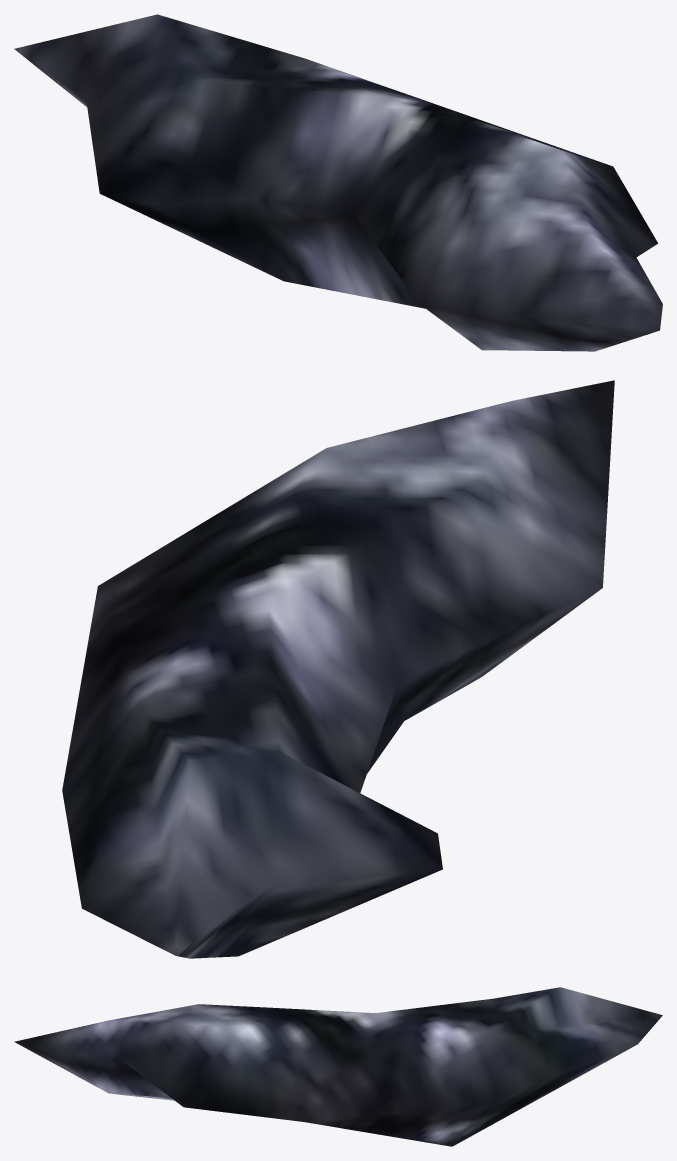
File: nar_condra_7_cone_5.glb
3 renders of one model, top to bottom at view 1: azimuth 30°, elevation 25°; view 2: azimuth 150°, elevation 25°; view 3: azimuth 270°, elevation 25°, orthographic. The views are drawn at different scales.
Parts seen in each view (by area): view 1: model_nar_condra_7_cone_5; view 2: model_nar_condra_7_cone_5; view 3: model_nar_condra_7_cone_5.
Boxes of the visible parts, box(x1,y1,x2,y2) form: model_nar_condra_7_cone_5: box(14, 14, 662, 351); model_nar_condra_7_cone_5: box(62, 380, 614, 958); model_nar_condra_7_cone_5: box(14, 987, 662, 1146).
Size of the model in its own units: 0.1891 by 0.1077 by 0.4135.
Materials: 1 (1 with a texture image).
